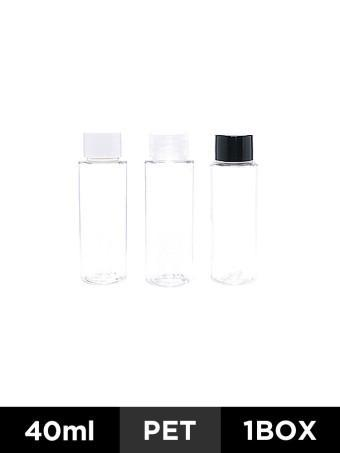bottle: (70, 131, 131, 285), (143, 135, 201, 287), (211, 133, 261, 287)
